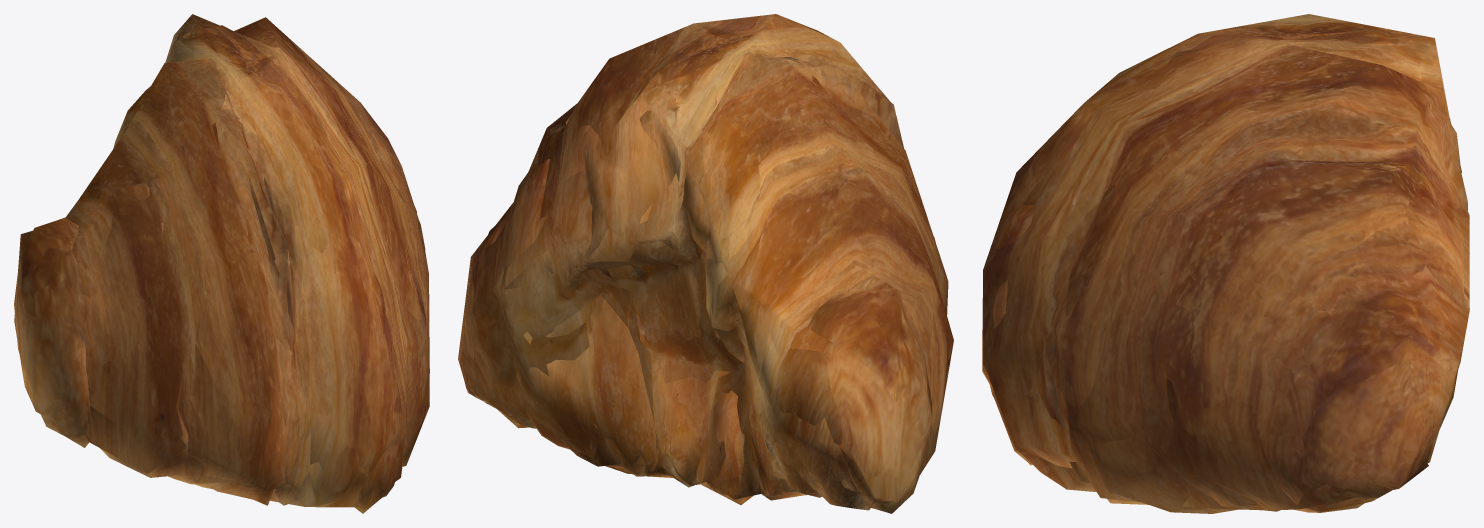
The model's file is croissant.glb.
3 views of the same model, side by side, from view 1: azimuth 30°, elevation 25°; view 2: azimuth 150°, elevation 25°; view 3: azimuth 270°, elevation 25° (orthographic). The views are drawn at different scales.
Visible parts, largest first — view 1: croissant-coarse, croissant-fine; view 2: croissant-coarse, croissant-fine; view 3: croissant-coarse, croissant-fine.
Part boxes in pixels (bbox=[...]): croissant-coarse: bbox=[14, 14, 429, 507]; croissant-fine: bbox=[14, 25, 429, 513]; croissant-coarse: bbox=[458, 14, 953, 508]; croissant-fine: bbox=[460, 31, 947, 513]; croissant-coarse: bbox=[982, 14, 1469, 510]; croissant-fine: bbox=[982, 22, 1467, 513].
Size of the model in its own units: 1 by 1 by 1.
Materials: 1 (1 with a texture image).
